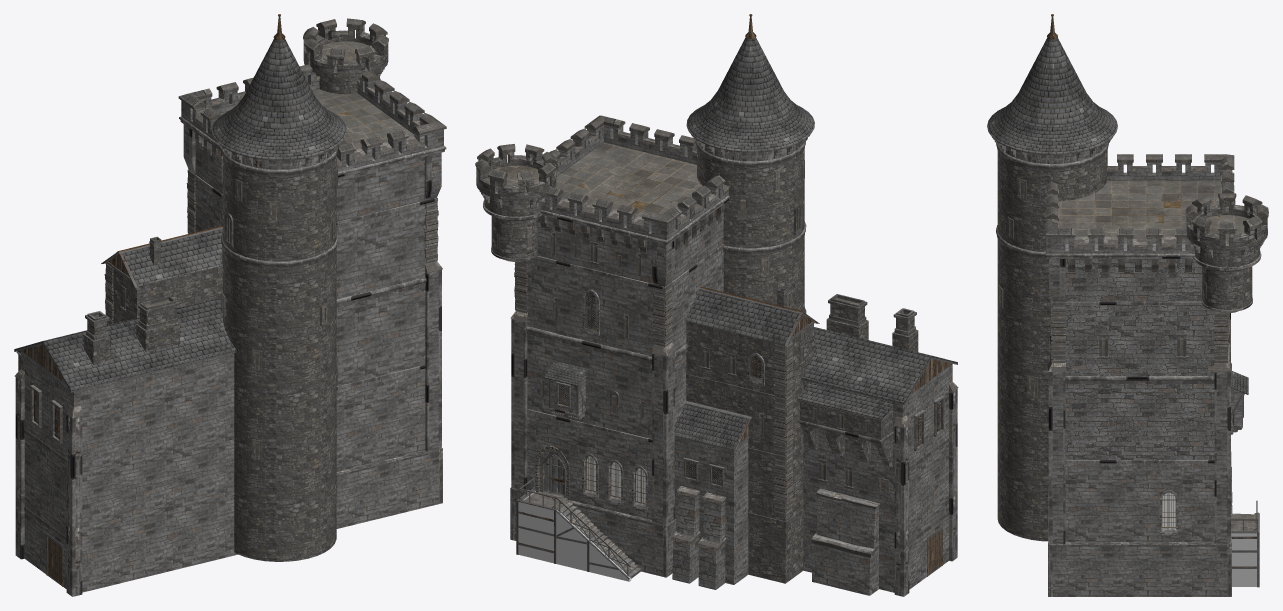
File: MC_Castle_Dungeon.fbx
3 views of the same model, side by side, from view 1: azimuth 30°, elevation 25°; view 2: azimuth 150°, elevation 25°; view 3: azimuth 270°, elevation 25° (orthographic). The views are drawn at different scales.
Parts seen in each view (by area): view 1: MC_Castle_Dungeon; view 2: MC_Castle_Dungeon, MC_Door.001; view 3: MC_Castle_Dungeon.
Part boxes in pixels (x1,y1,x2,y2): MC_Castle_Dungeon: (14,14,446,596); MC_Castle_Dungeon: (475,14,958,596); MC_Door.001: (545,455,564,494); MC_Castle_Dungeon: (987,14,1268,596).
Size of what is drawn, in the model's own units: 3119 by 3843 by 1935.
